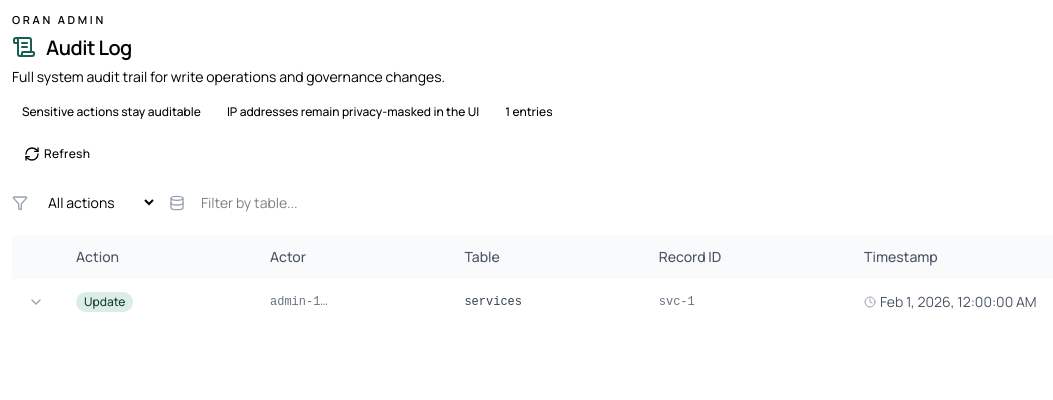
Test: oran admin audit page › shows filtered empty state when no entries match
This screenshot has width=1053, height=400.
Expected: the text "svc-1" is shown, [643,279,848,324]
Select "Login" in the dropdown named "Action filter" at (94, 203), box [32,186,157,219]
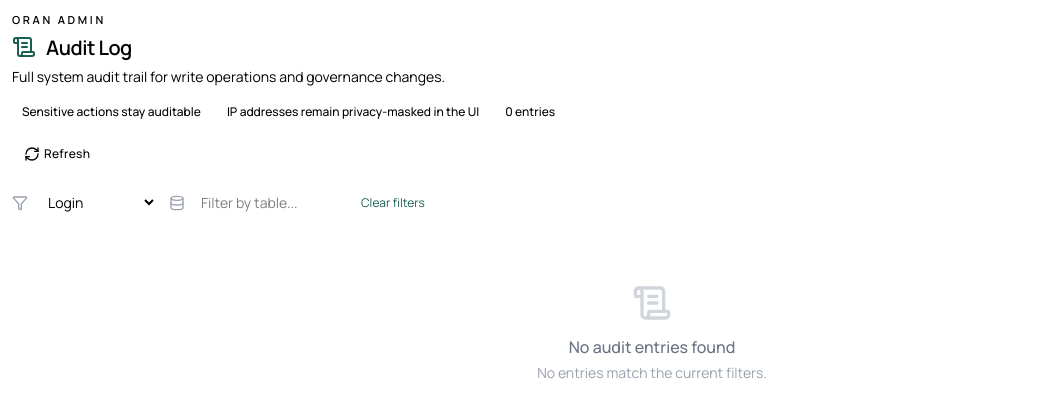
Result: the text "No audit entries found" is shown at [569,335,735,359]
Result: the text "No entries match the current filters." is shown at [537,363,767,383]
